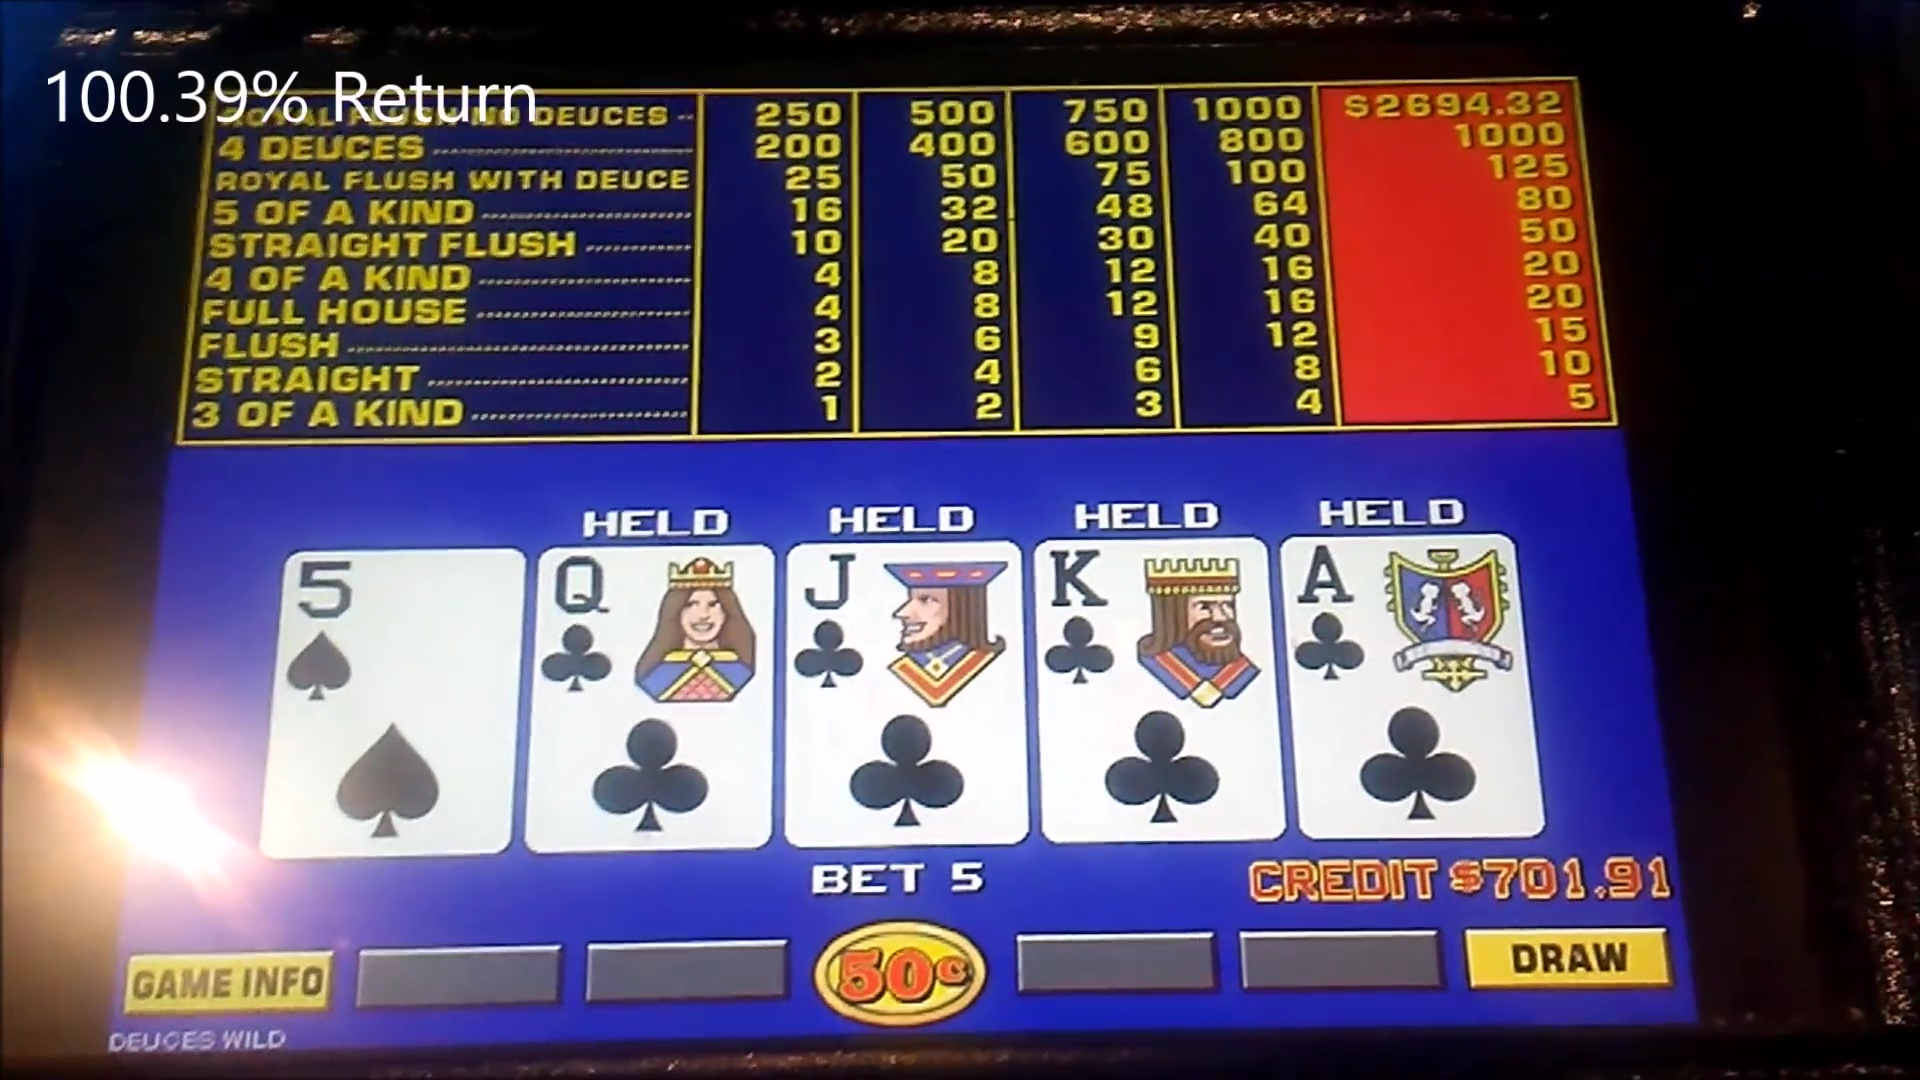5S: (291, 553, 518, 709)
AC: (1288, 535, 1509, 704)
JC: (787, 547, 1021, 708)
KC: (1040, 542, 1262, 705)
QC: (534, 549, 767, 707)
